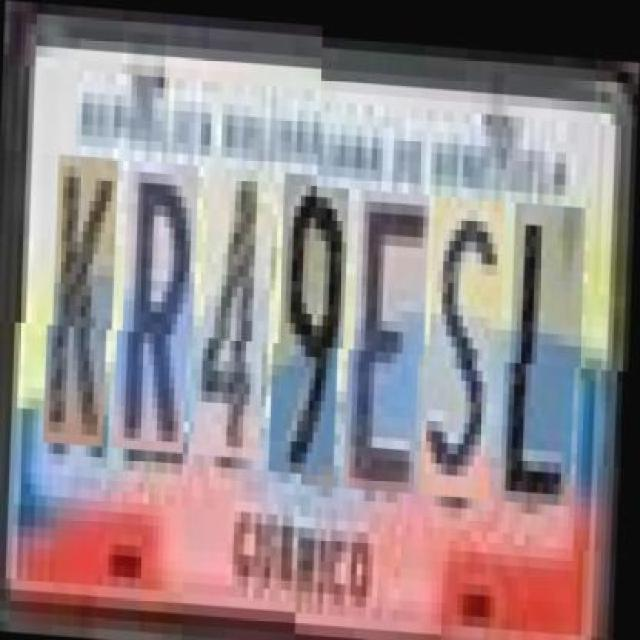4: (202, 174, 276, 466)
9: (277, 178, 351, 482)
e: (352, 184, 432, 487)
k: (51, 164, 118, 456)
l: (508, 193, 588, 496)
r: (122, 169, 200, 462)
s: (427, 188, 507, 492)
